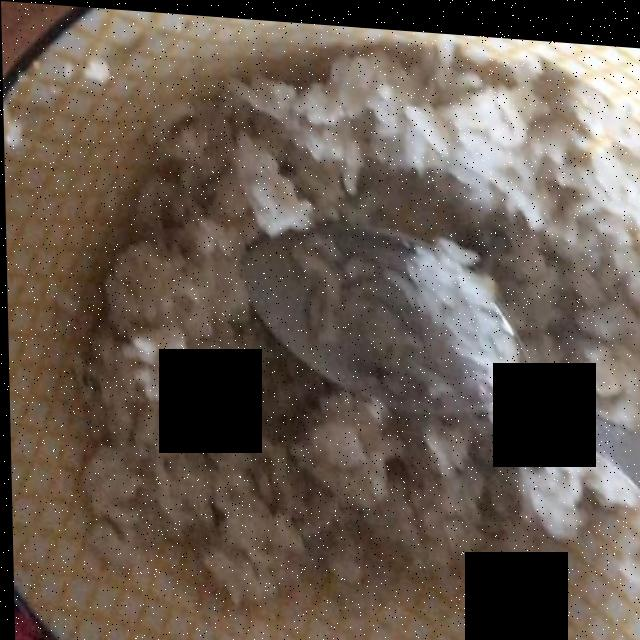rice-basmati: (59, 37, 640, 640)
